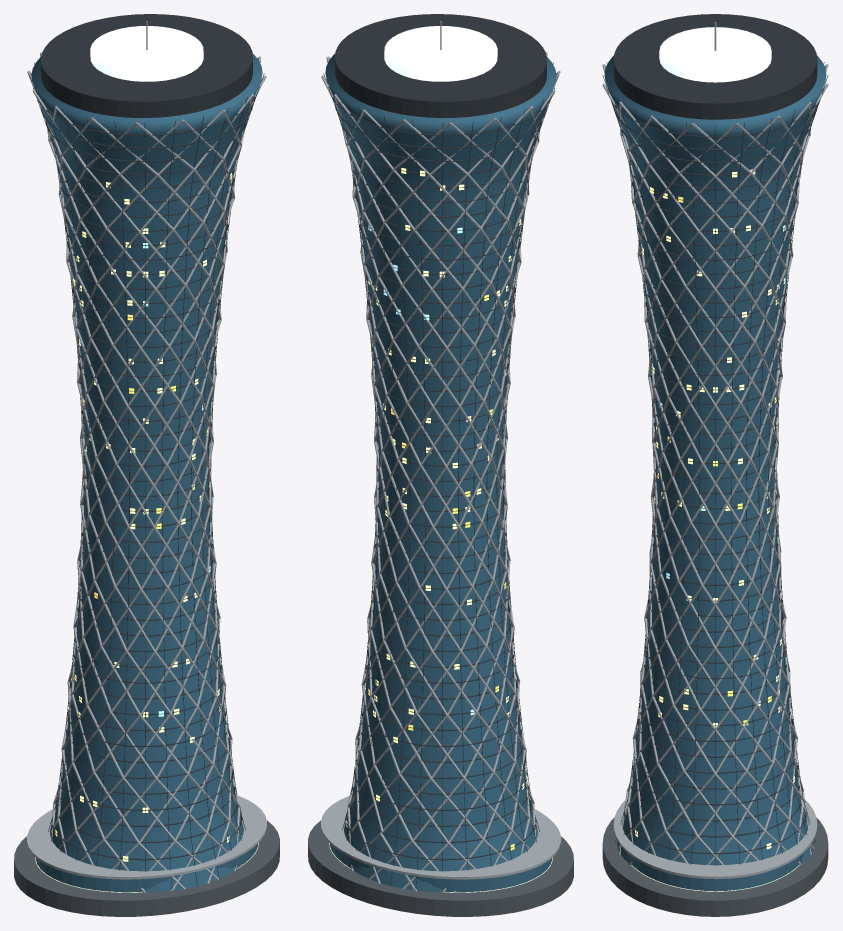
Rendered from TornadoTower_HERO.glb.
3 views of the same model, side by side, from view 1: azimuth 30°, elevation 25°; view 2: azimuth 150°, elevation 25°; view 3: azimuth 270°, elevation 25° (orthographic).
Visible parts, largest first — view 1: Tower_Glass_Facade.001, Tower_Crown.001, Podium_Main.001, Crown_Illumination.001, Podium_Roof.001, Podium_Glass.001; view 2: Tower_Glass_Facade.001, Tower_Crown.001, Podium_Main.001, Crown_Illumination.001, Podium_Roof.001, Podium_Glass.001; view 3: Tower_Glass_Facade.001, Tower_Crown.001, Podium_Main.001, Crown_Illumination.001, Podium_Roof.001, Podium_Glass.001.
Part boxes in pixels (x1,y1,x2,y2): Tower_Glass_Facade.001: (31, 54, 262, 892); Tower_Crown.001: (41, 14, 252, 117); Podium_Main.001: (14, 820, 279, 916); Crown_Illumination.001: (90, 26, 203, 81); Podium_Roof.001: (27, 795, 266, 879); Podium_Glass.001: (35, 843, 258, 892); Tower_Glass_Facade.001: (325, 54, 556, 892); Tower_Crown.001: (335, 14, 546, 117); Podium_Main.001: (308, 820, 573, 916); Crown_Illumination.001: (384, 26, 497, 81); Podium_Roof.001: (321, 796, 560, 879); Podium_Glass.001: (329, 843, 552, 892); Tower_Glass_Facade.001: (604, 55, 826, 865); Tower_Crown.001: (613, 14, 817, 119); Podium_Main.001: (602, 817, 828, 916); Crown_Illumination.001: (659, 27, 771, 82); Podium_Roof.001: (613, 800, 817, 879); Podium_Glass.001: (627, 853, 803, 891).
Size of the model in its own units: 62 by 208 by 51.06.
